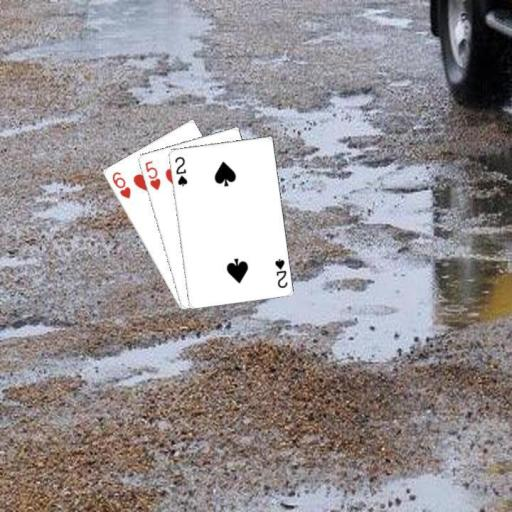2S: (172, 153, 189, 188), (272, 256, 289, 290)
5H: (142, 157, 162, 191)
6H: (109, 168, 132, 200)
